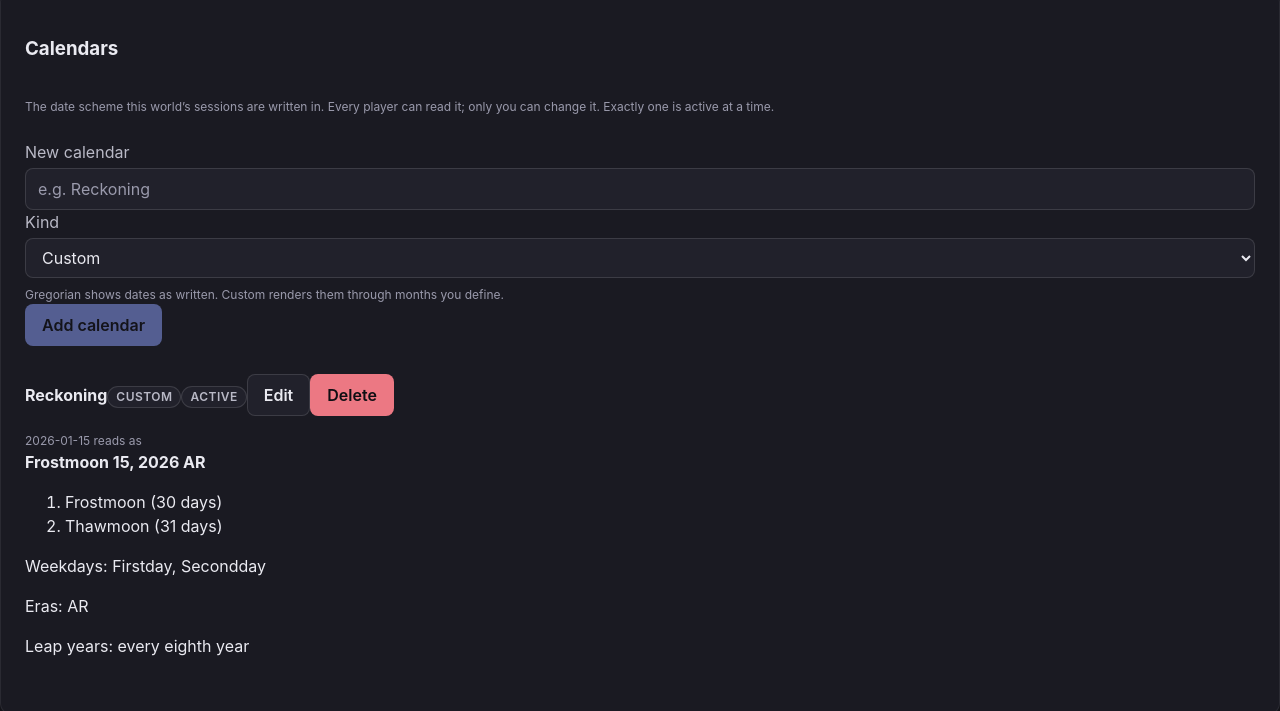
Test: CalendarsPanel › the structured config editor › surfaces a save refusal
This screenshot has width=1280, height=711.
Click the button with aria-label "Edit Reckoning". click: {"x": 278, "y": 394}
box: [247,374,310,416]
(page scrolled)
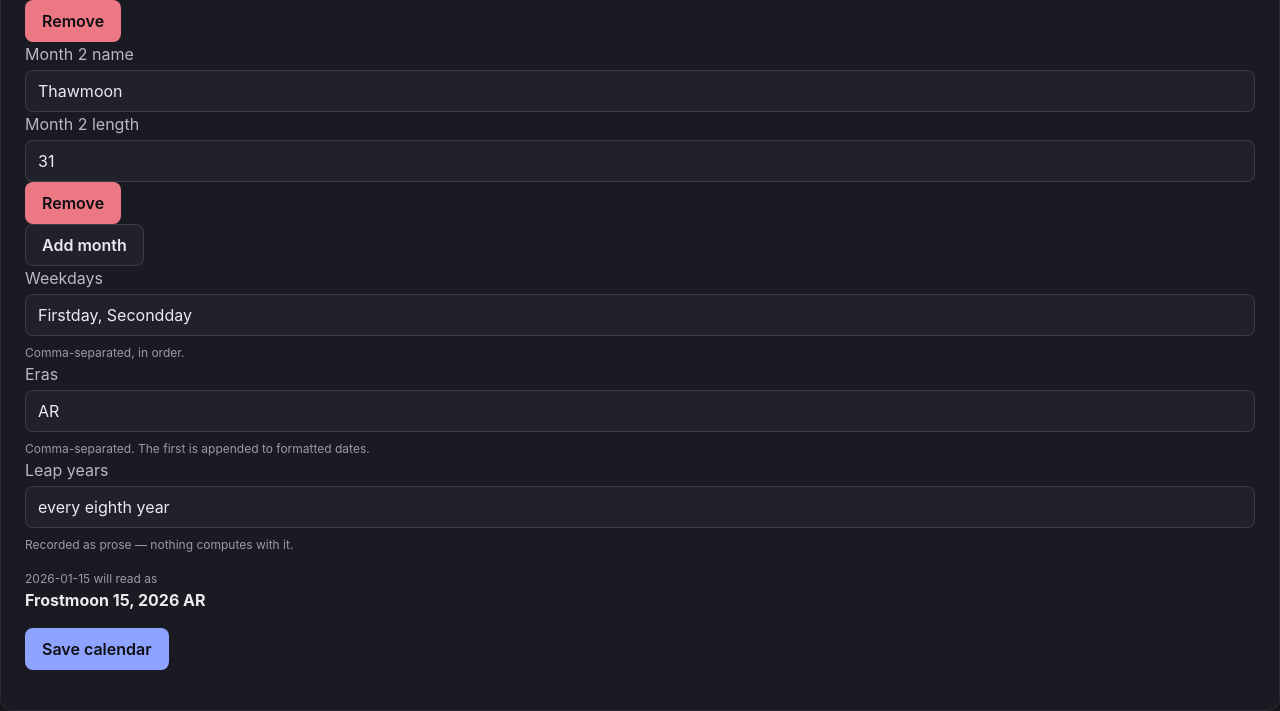
Click the button "Save calendar". click: {"x": 97, "y": 649}
box: [25,628,168,670]
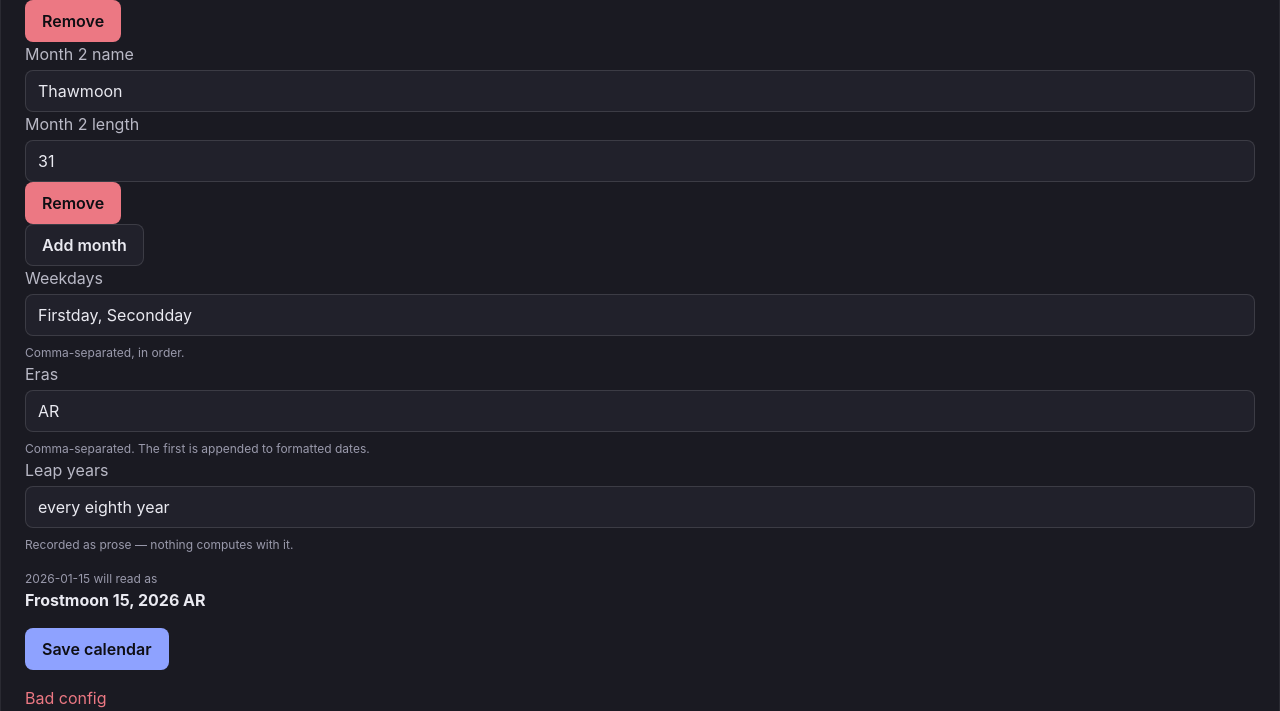
expect the message reads "Bad config": met, box [25,688,106,708]
